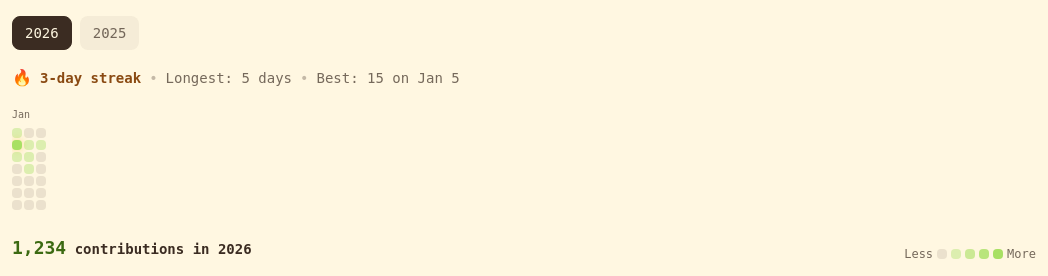
ContributionGraph › year switching (client state) › switches active tab and updates the displayed total on click
Expected: the text with class "contribution-total-number" reads "1,234", [12,237,66,258]
Click 2025 tab
Click the button "2025".
click(110, 33)  # box [80,16,139,50]
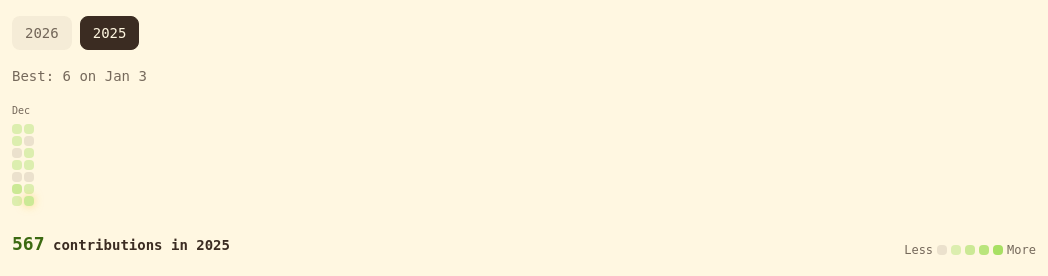
Now the text with class "contribution-total-number" reads "567", box [12,233,44,254]
